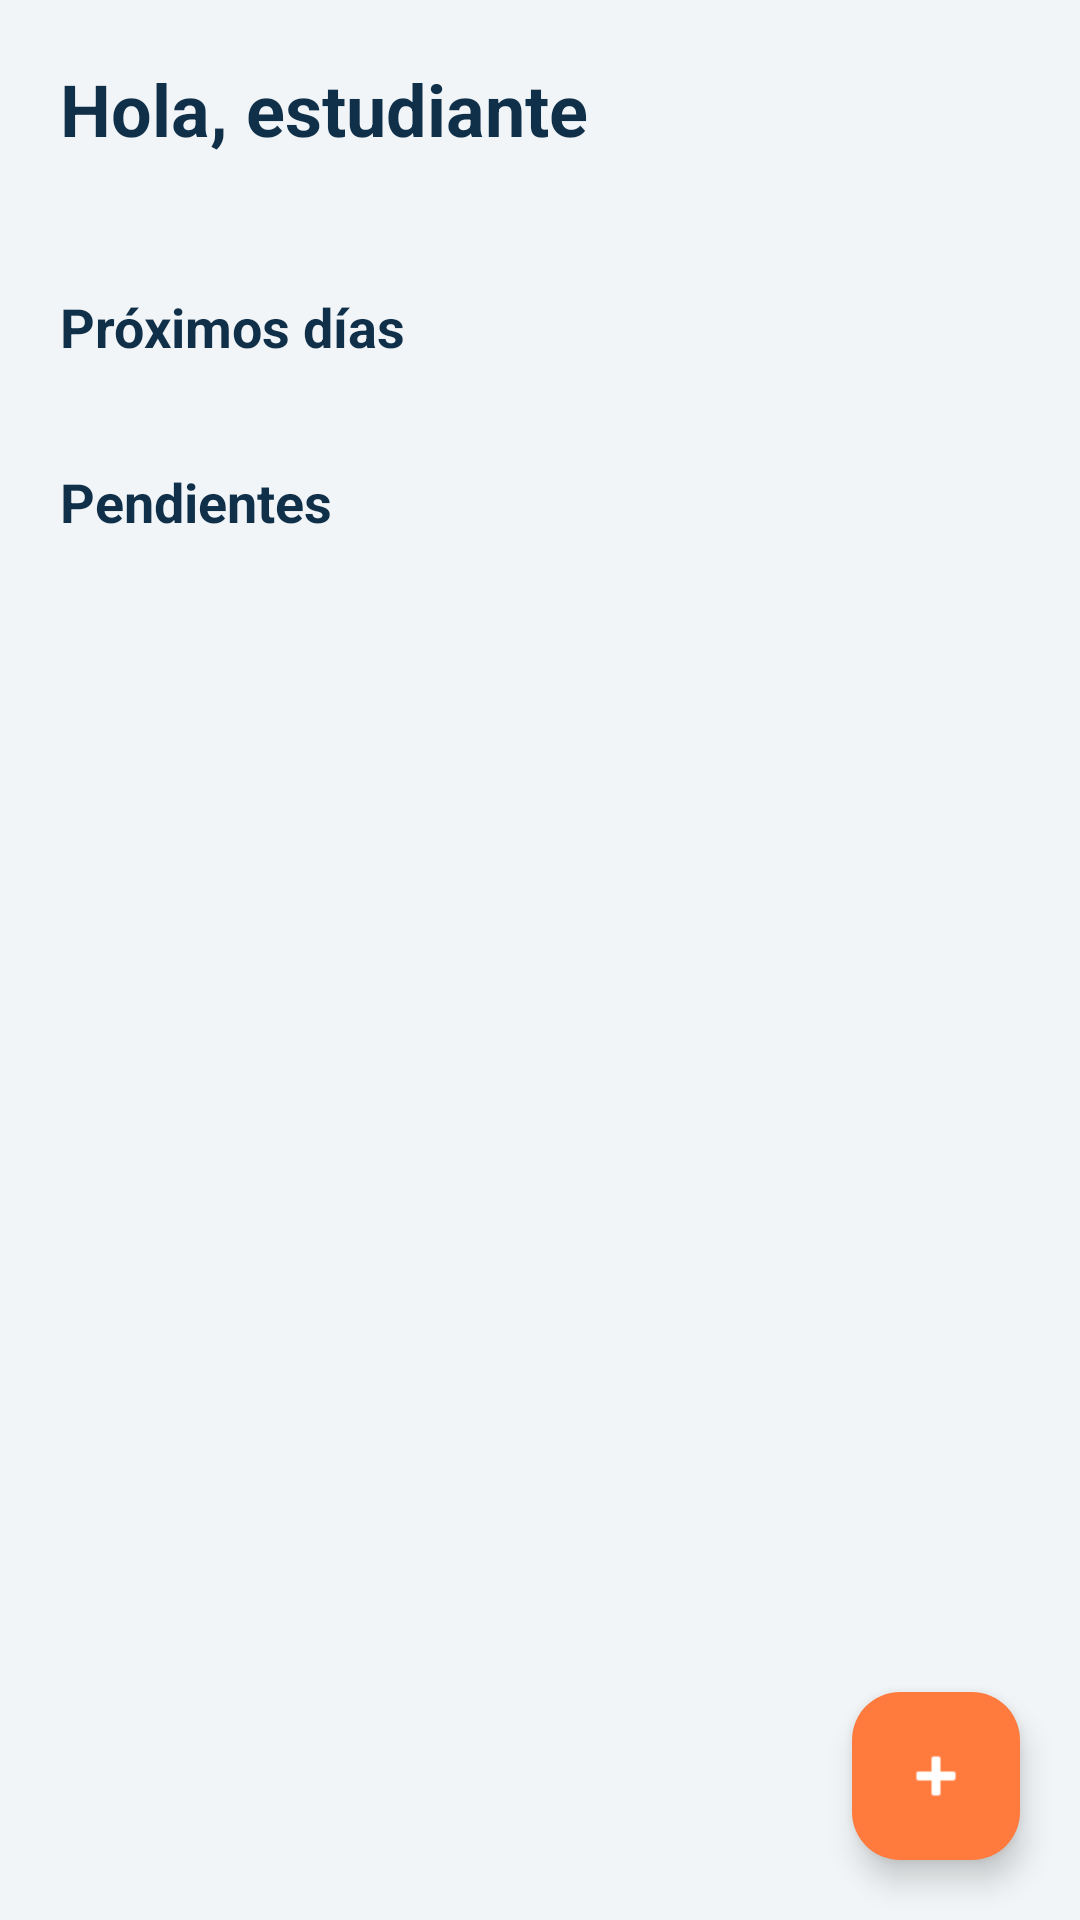

Icon bounding boxes for this 1080px×1920px phone screenshot, format Rect(x1, y1, x2, y2):
Nueva tarea: Rect(852, 1692, 1020, 1860)
